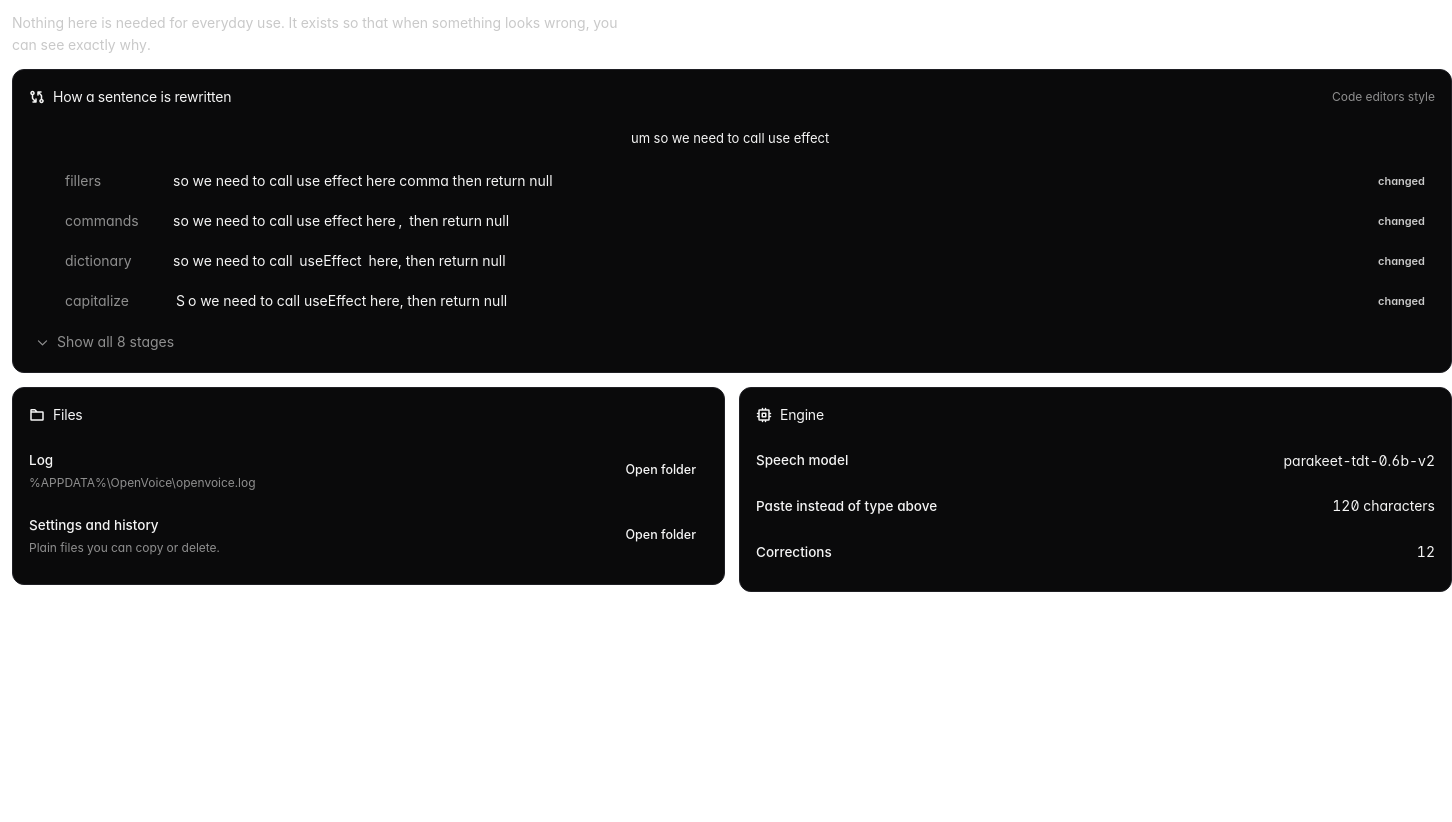
Scenario: Advanced screen › re-traces as the sentence is edited
The image size is (1452, 822).
Replace the text in the field named "A sentence to trace" with "hello there" at x=732, y=138, box [631, 120, 833, 156]
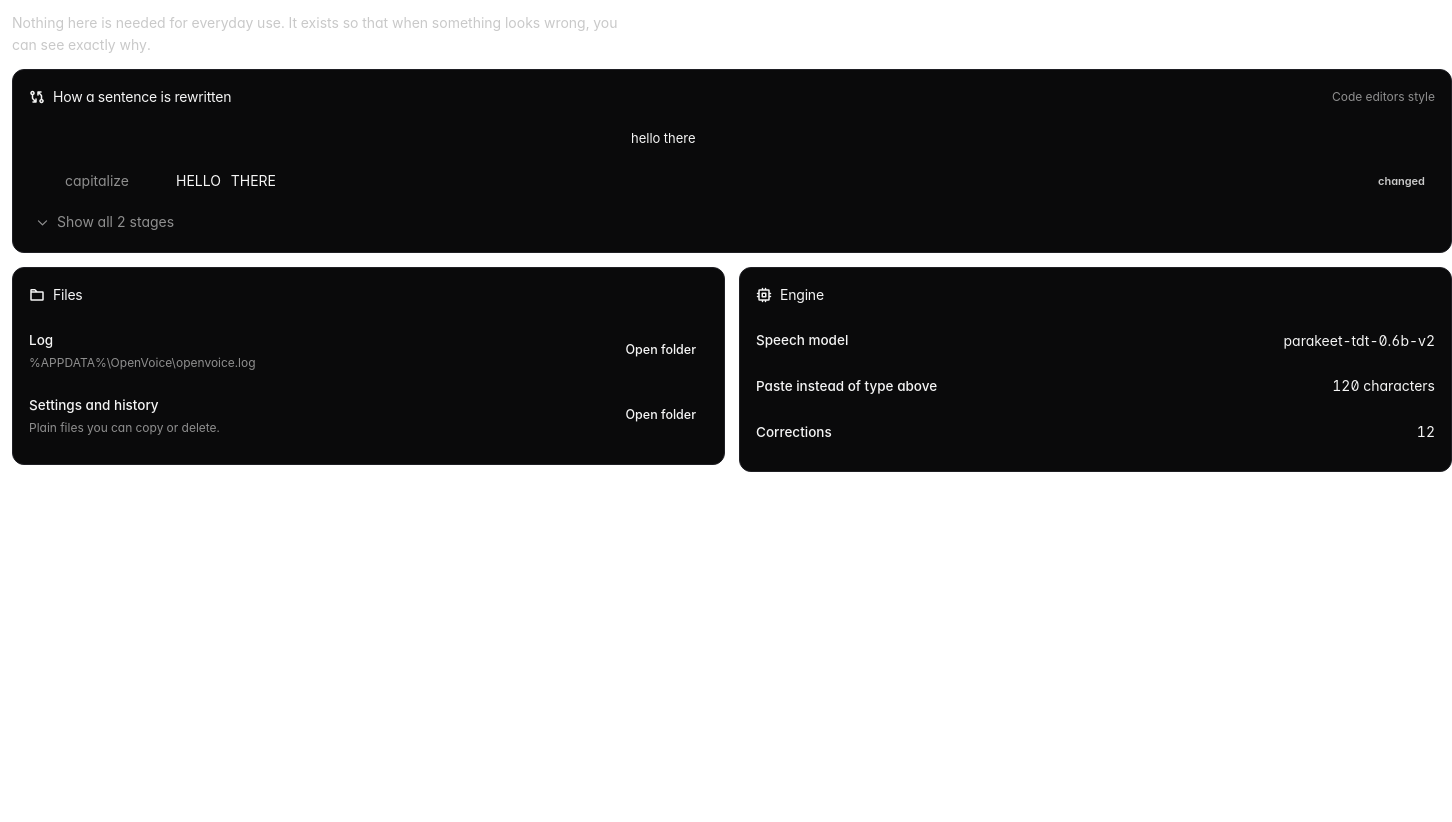
Expected: the element showing "HELLO THERE" is shown, [176, 172, 276, 189]
